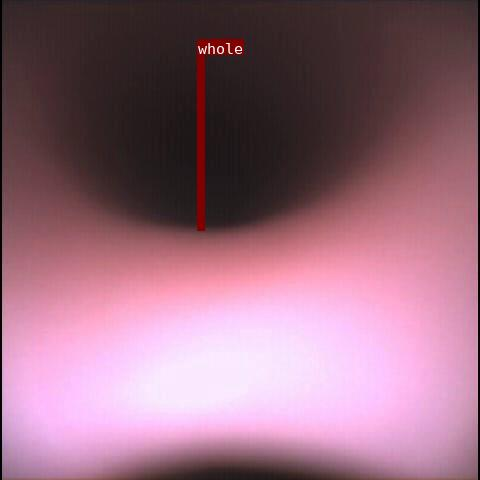whole: (197, 55, 204, 230)
